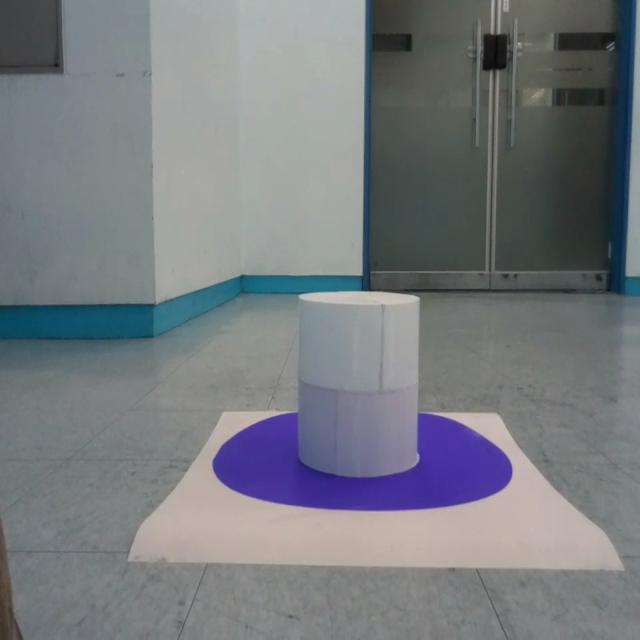cylinder: (297, 290, 421, 479)
